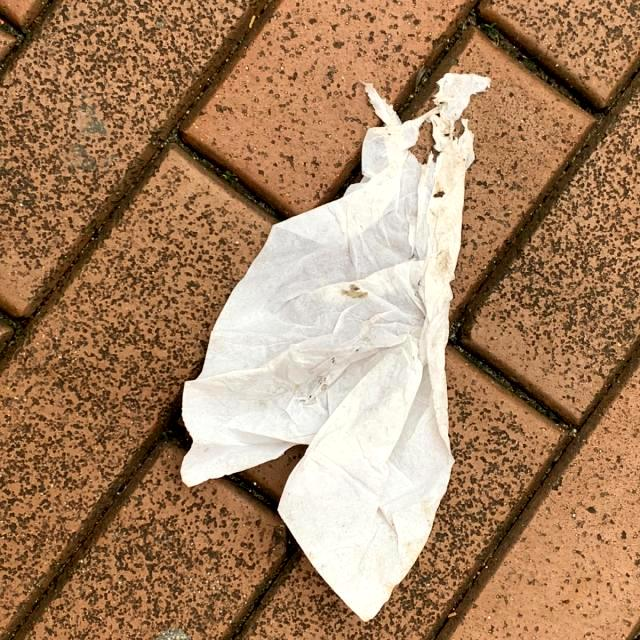Paper: (178, 72, 494, 626)
